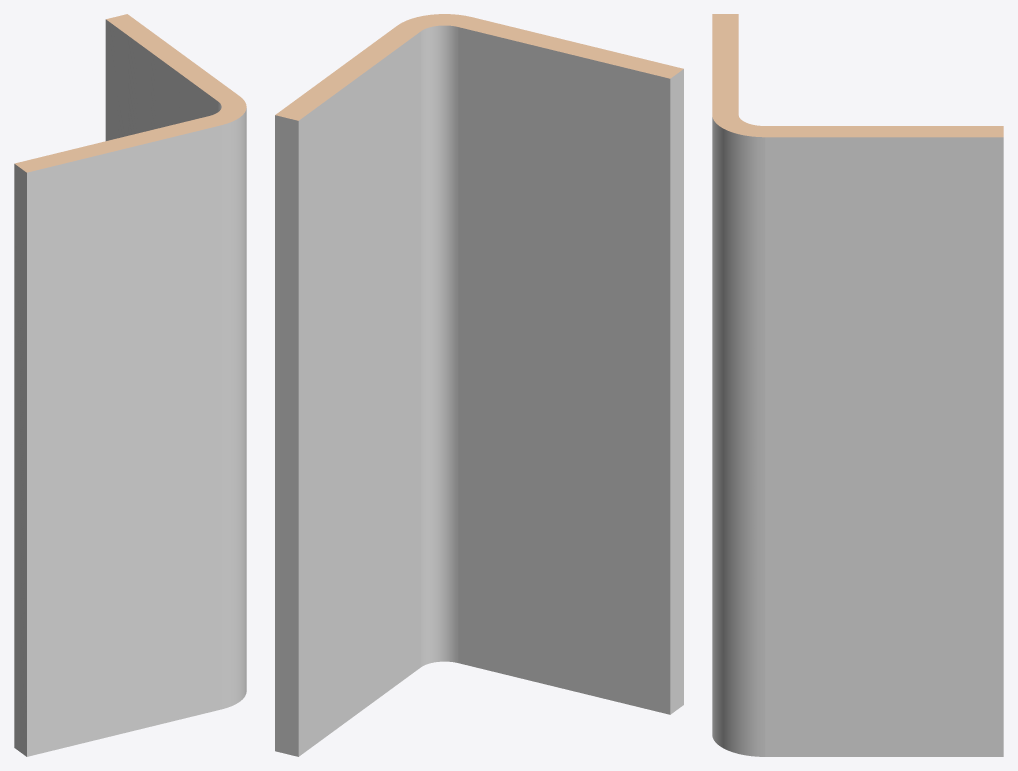
The model's file is wallCornerRond.glb.
3 views of the same model, side by side, from view 1: azimuth 30°, elevation 25°; view 2: azimuth 150°, elevation 25°; view 3: azimuth 270°, elevation 25° (orthographic). The views are drawn at different scales.
Parts seen in each view (by area): view 1: wallCornerRond(Clone); view 2: wallCornerRond(Clone); view 3: wallCornerRond(Clone).
Boxes of the visible parts, x1,y1,x2,y2 form: wallCornerRond(Clone): (14, 14, 246, 756); wallCornerRond(Clone): (275, 14, 683, 756); wallCornerRond(Clone): (712, 14, 1003, 756).
Bounding box in the file's own units: 0.55 × 1.29 × 0.55.
